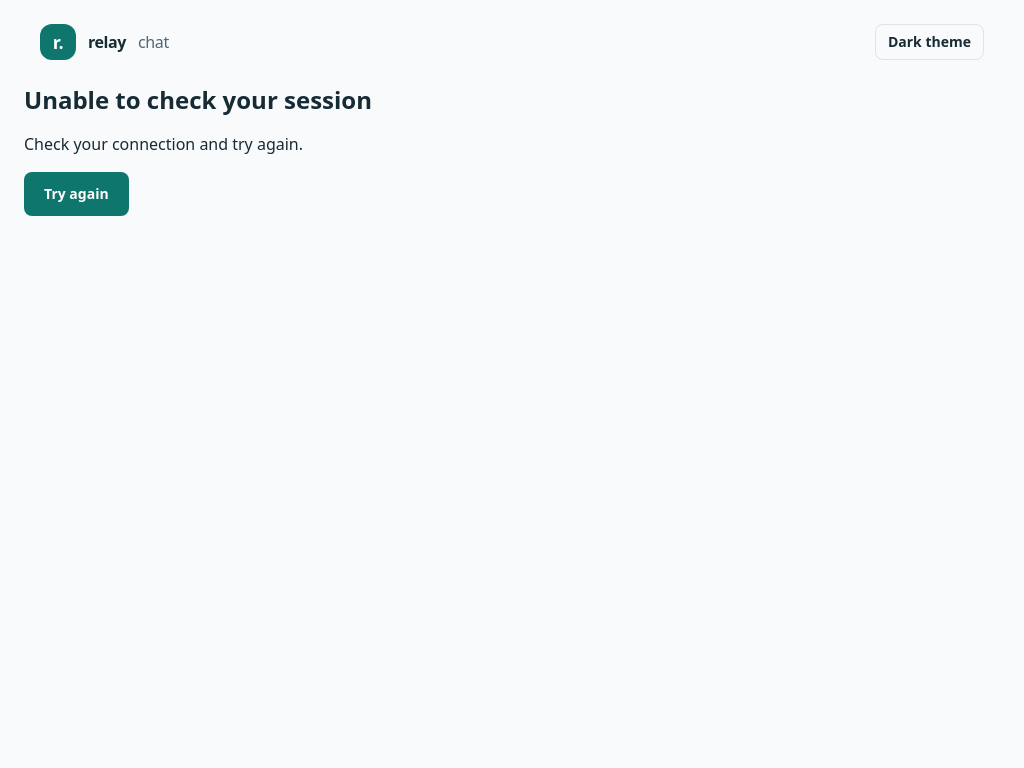
web app smoke test › surfaces session failures and lets the user try again
The width and height of the screenshot is (1024, 768).
Expected: the heading "Unable to check your session" is shown, [24,83,372,116]
Click the button "Try again".
click(76, 194)  # box [24,172,129,216]
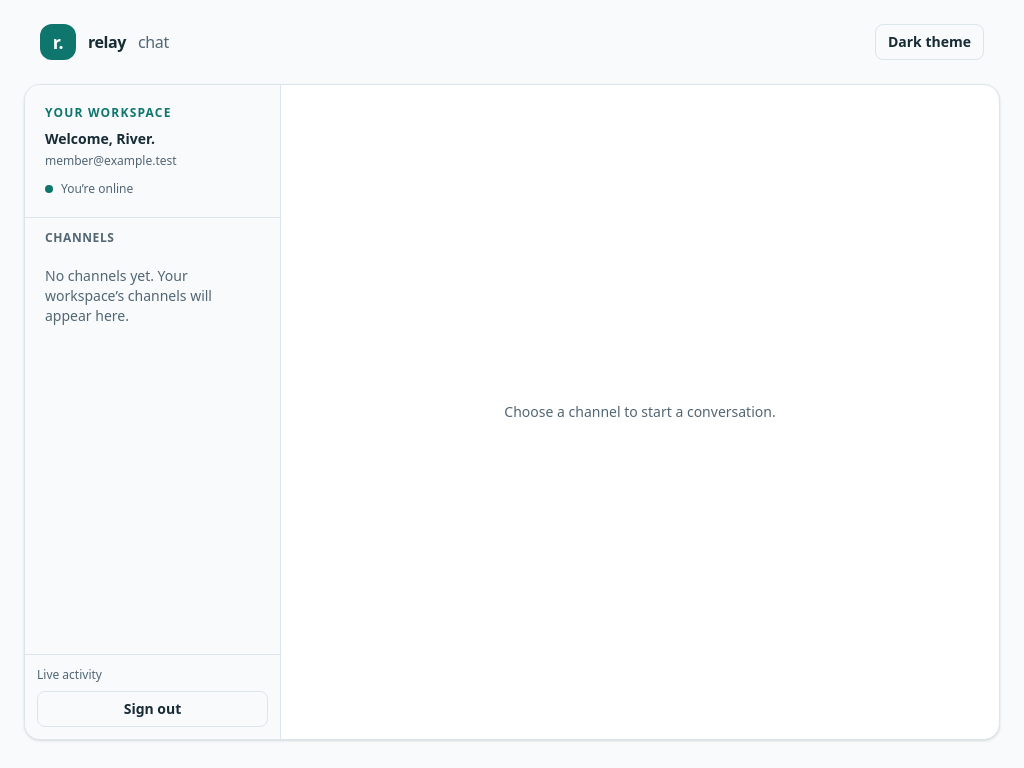
Expected: the heading "Welcome, River." is shown, [45,129,155,148]
